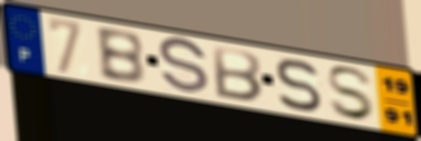7: (46, 15, 87, 77)
B: (93, 26, 149, 87), (211, 43, 264, 104)
S: (157, 36, 212, 97), (324, 64, 378, 122), (274, 58, 324, 115)
